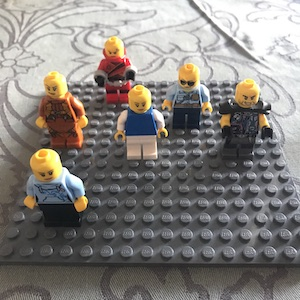Lego: (22, 148, 87, 227), (218, 78, 272, 158), (114, 84, 168, 161), (34, 71, 87, 147), (162, 61, 213, 132), (94, 36, 137, 103)
